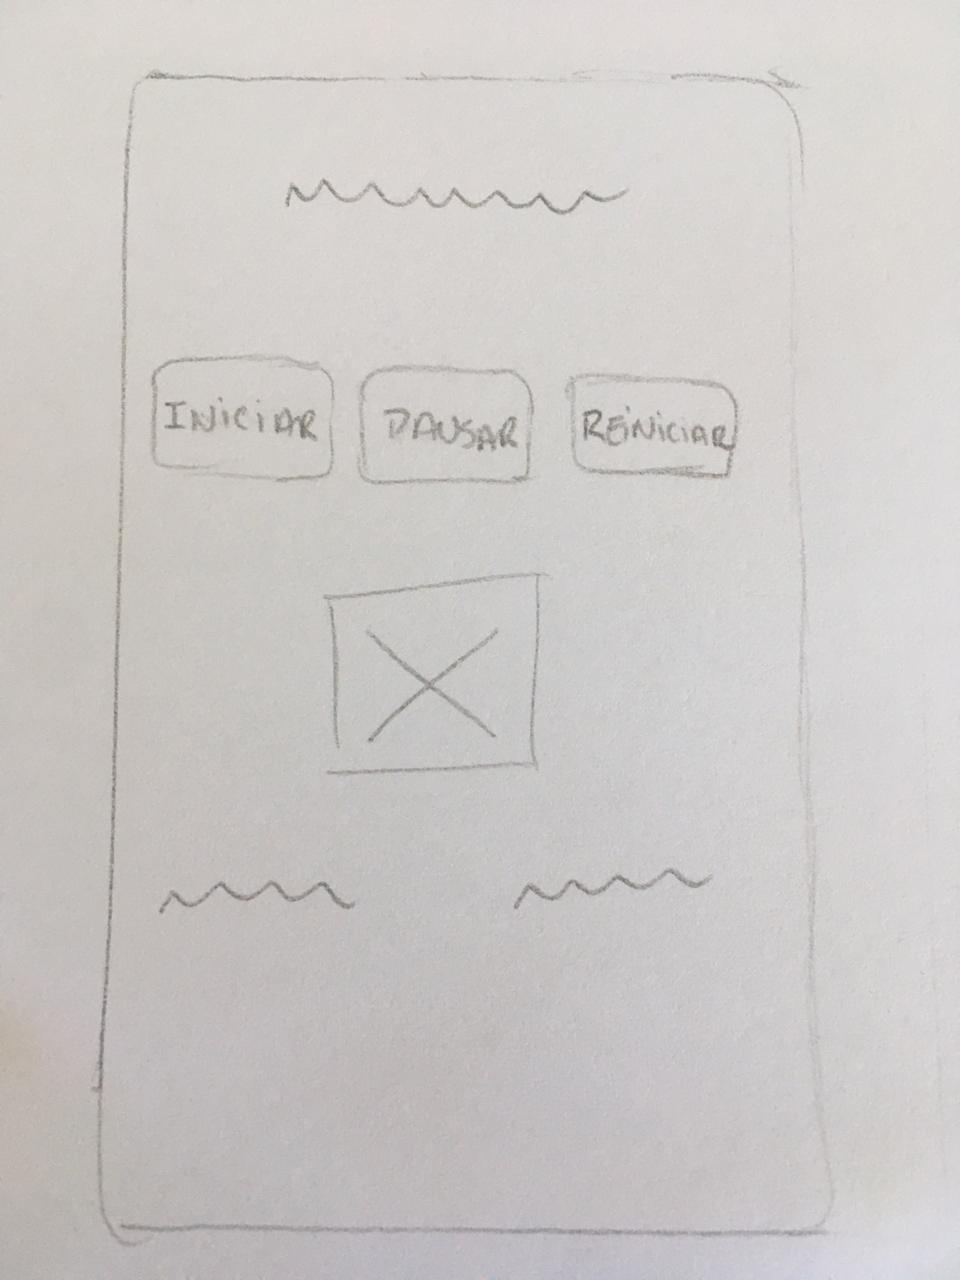Button: (150, 356, 335, 480), (362, 365, 533, 485), (571, 372, 738, 478)
Image: (324, 572, 543, 775)
Label: (287, 176, 631, 217), (511, 867, 714, 911), (159, 880, 360, 913)
Screen: (98, 70, 833, 1246)
